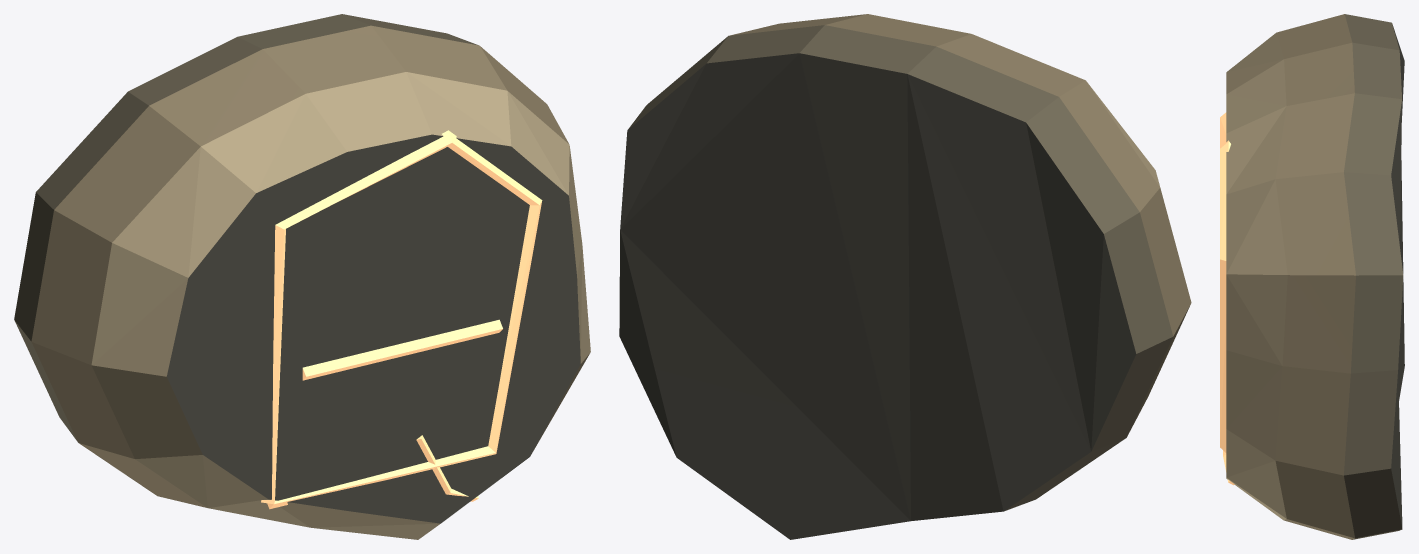
The model's file is FERNSTONE_ORE.lo.glb.
3 views of the same model, side by side, from view 1: azimuth 30°, elevation 25°; view 2: azimuth 150°, elevation 25°; view 3: azimuth 270°, elevation 25° (orthographic). The views are drawn at different scales.
Visible parts, largest first — view 1: Body_Mesh; view 2: Body_Mesh; view 3: Body_Mesh.
Boxes of the visible parts, x1,y1,x2,y2 form: Body_Mesh: [14, 14, 590, 539]; Body_Mesh: [619, 14, 1191, 539]; Body_Mesh: [1220, 14, 1404, 539].
Bounding box in the file's own units: 0.3083 × 0.2807 × 0.1054.
Materials: 1 (1 with a texture image).
